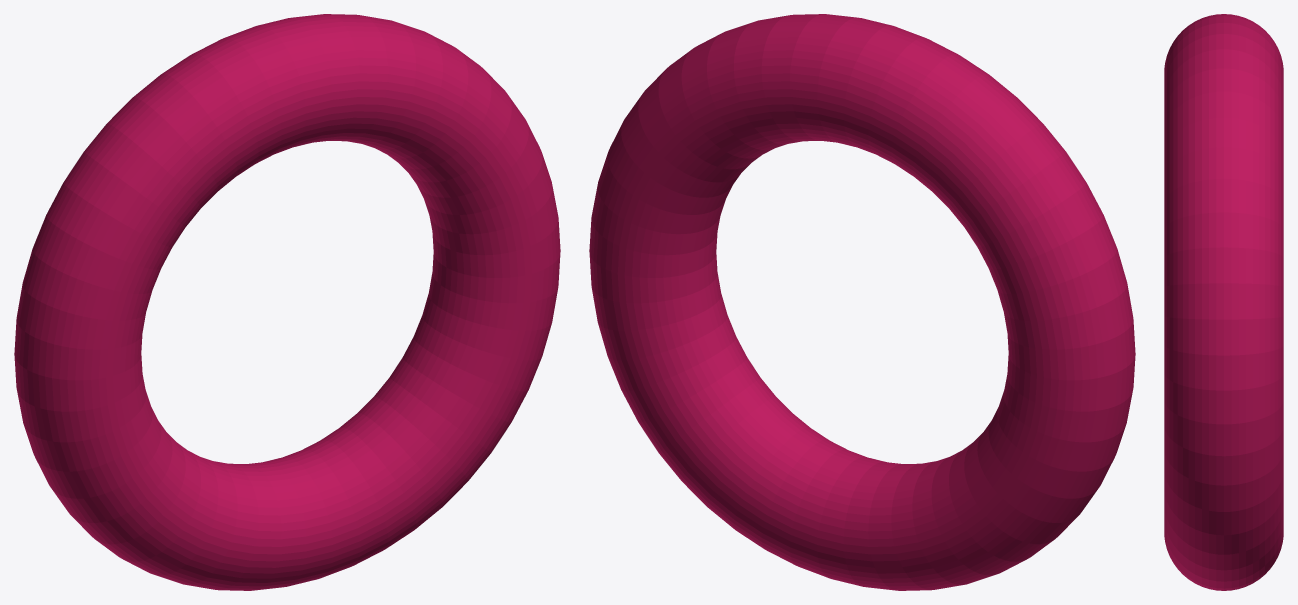
3 renders of one model, left to right at view 1: azimuth 30°, elevation 25°; view 2: azimuth 150°, elevation 25°; view 3: azimuth 270°, elevation 25°, orthographic. The views are drawn at different scales.
Visible parts, largest first — view 1: world; view 2: world; view 3: world.
Boxes of the visible parts, x1,y1,x2,y2 form: world: (14, 14, 560, 590); world: (589, 14, 1135, 590); world: (1164, 14, 1283, 590).
Size of the model in its own units: 37.87 by 37.79 by 7.85.
